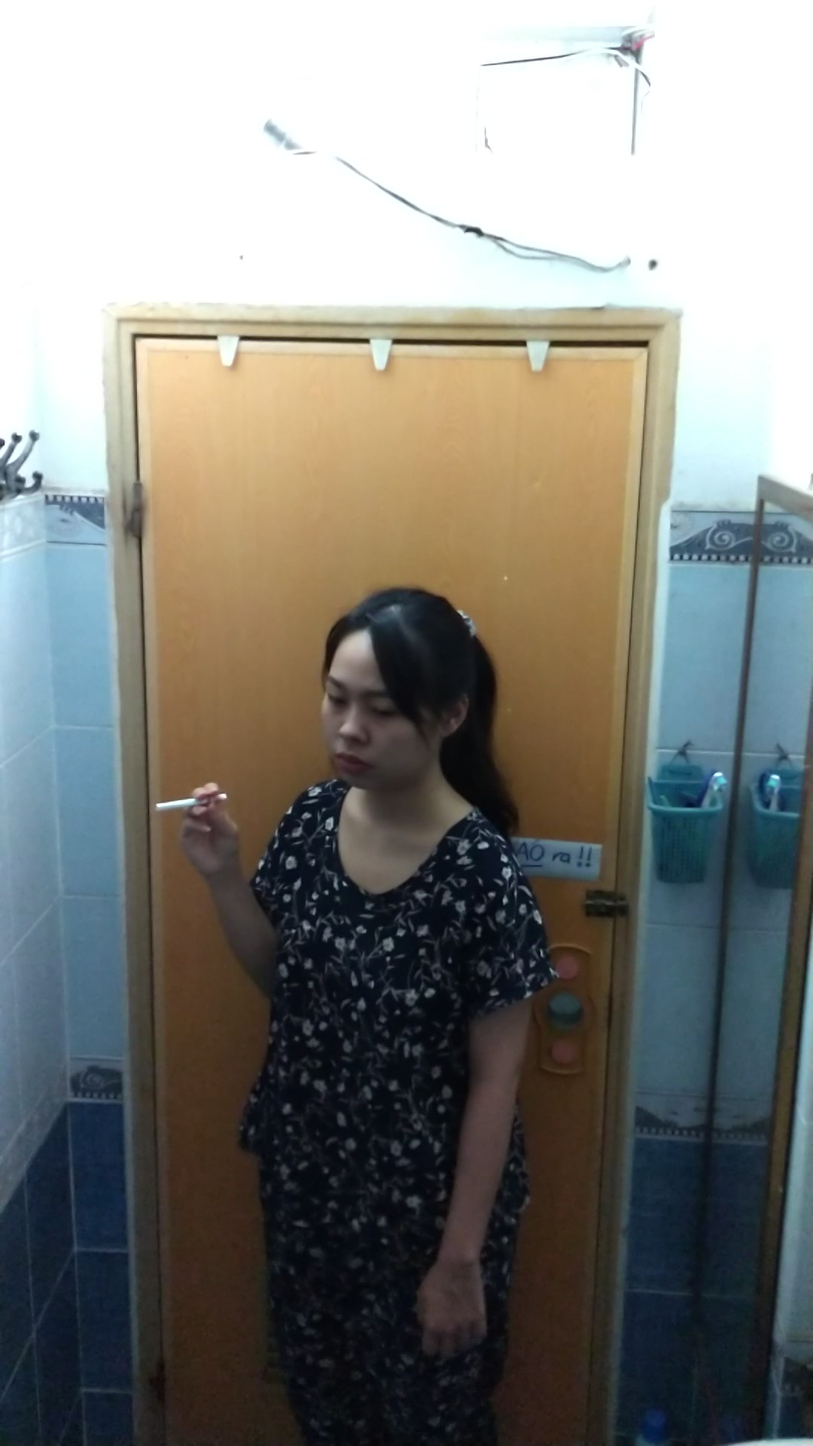cigarette: (150, 794, 197, 816)
person: (171, 575, 579, 1443)
